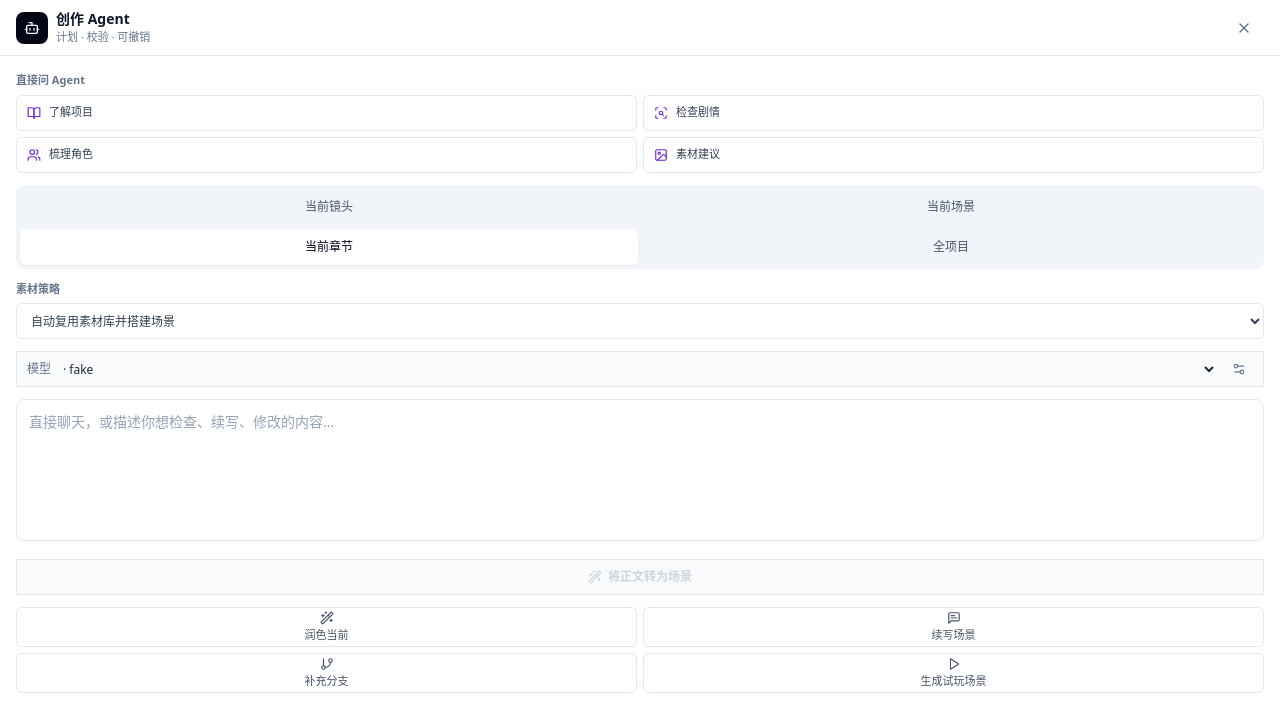
Test case: AgentPanel › lets the writer select the exact card before proposing a modification
The image size is (1280, 704).
What coordinates should you click on to do the following:
click the button "当前镜头"
I would click on:
 (329, 206)
Its box is [20,188,638,224].
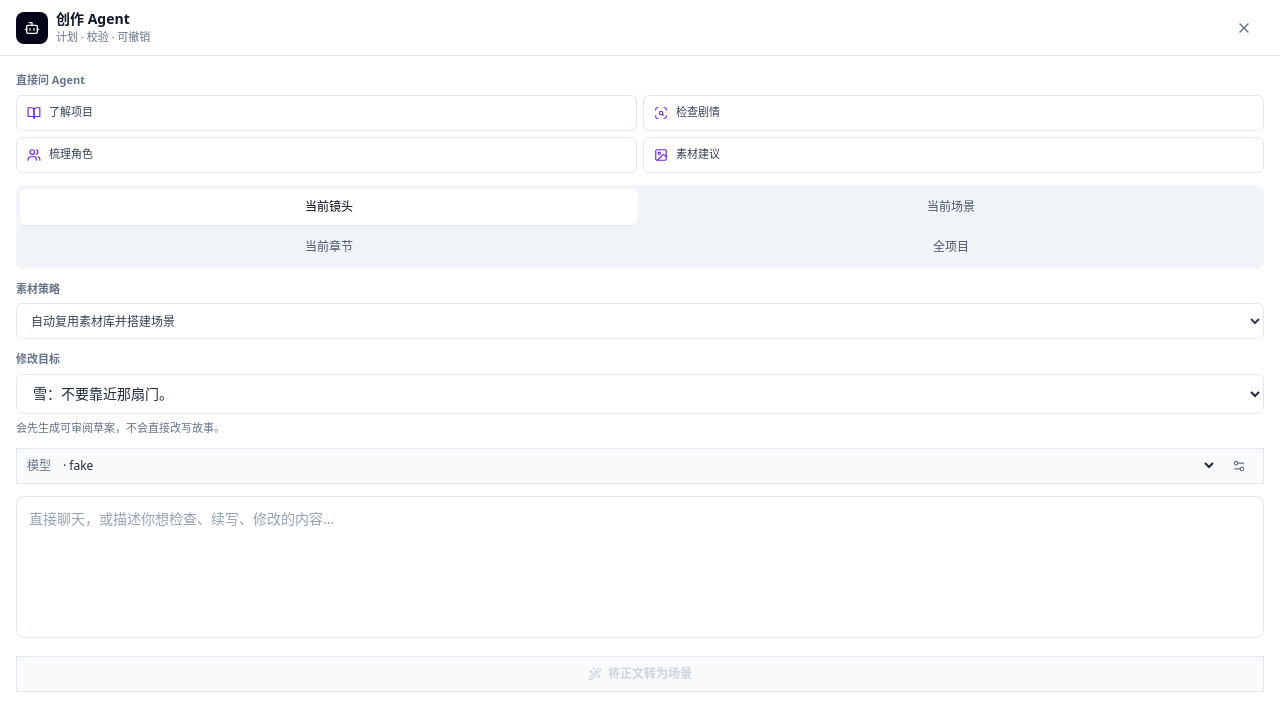
Now the dropdown labelled "修改目标" shows "雪：不要靠近那扇门。", box [16,374,1264,414]
